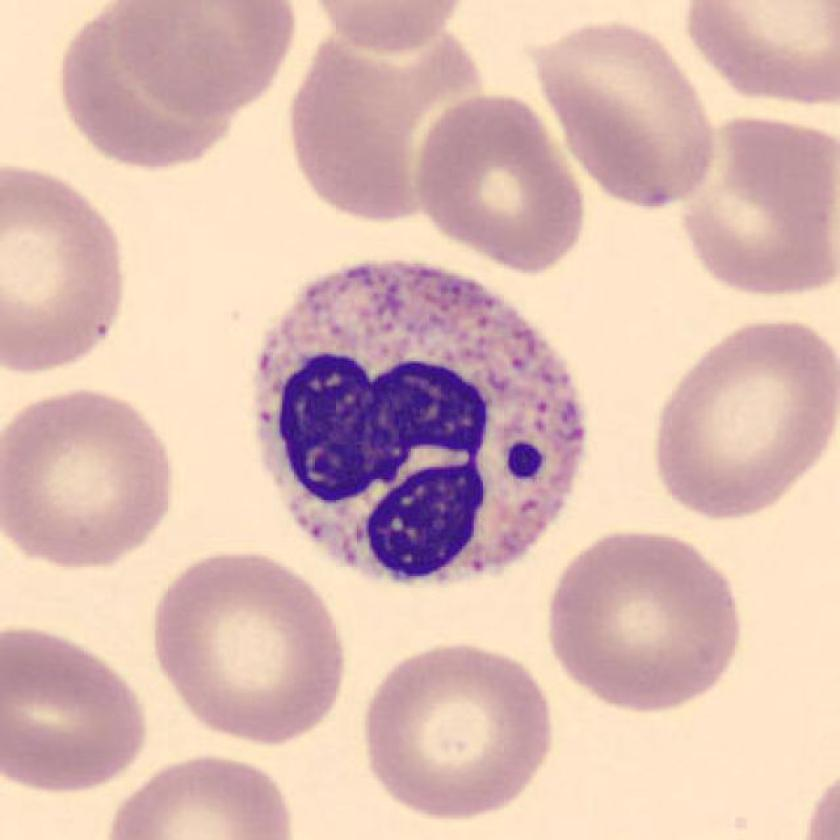neutrophil: (257, 262, 584, 584)
